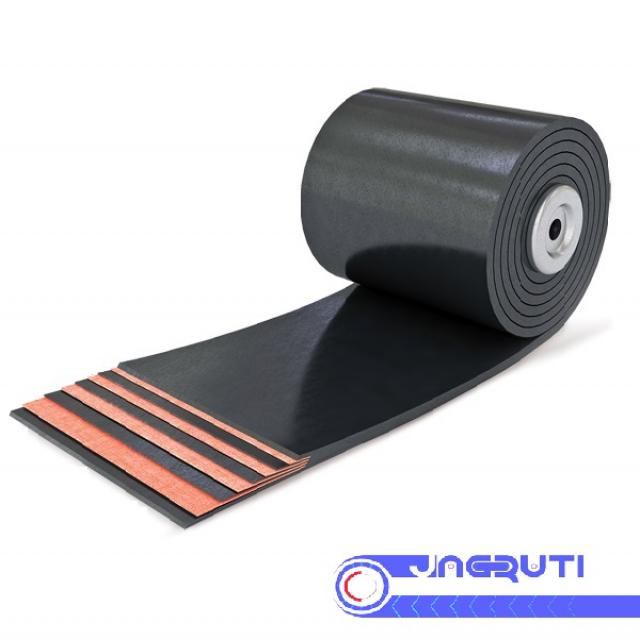convoyeur: (9, 85, 617, 535)
